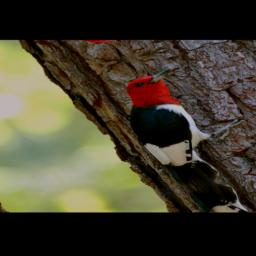Woodpecker: (89, 62, 256, 189)
